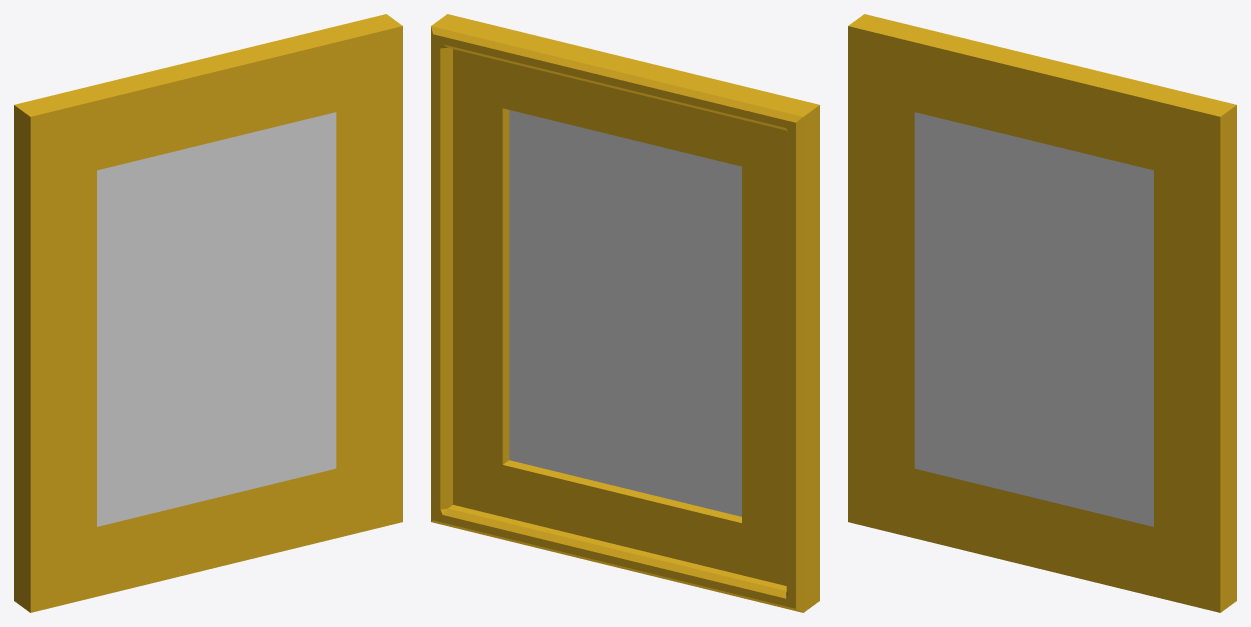
Rendered from Painting_11x14.fbx.
The picture shows the model from 3 angles, left to right: view 1: azimuth 30°, elevation 25°; view 2: azimuth 150°, elevation 25°; view 3: azimuth 330°, elevation 25°; orthographic projection.
Visible parts, largest first — view 1: Painting_11x14; view 2: Painting_11x14; view 3: Painting_11x14.
Part boxes in pixels (left/top/right/bottom): Painting_11x14: left=14, top=14, right=402, bottom=612; Painting_11x14: left=431, top=14, right=819, bottom=612; Painting_11x14: left=848, top=14, right=1236, bottom=612.
Size of the model in its own units: 27.94 by 35.56 by 2.5.
